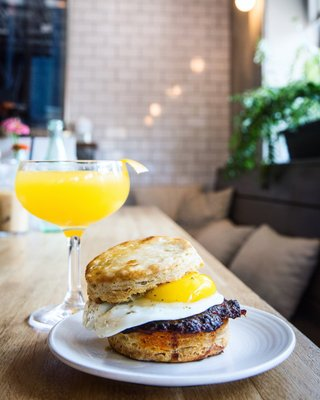soup: (82, 233, 244, 363)
